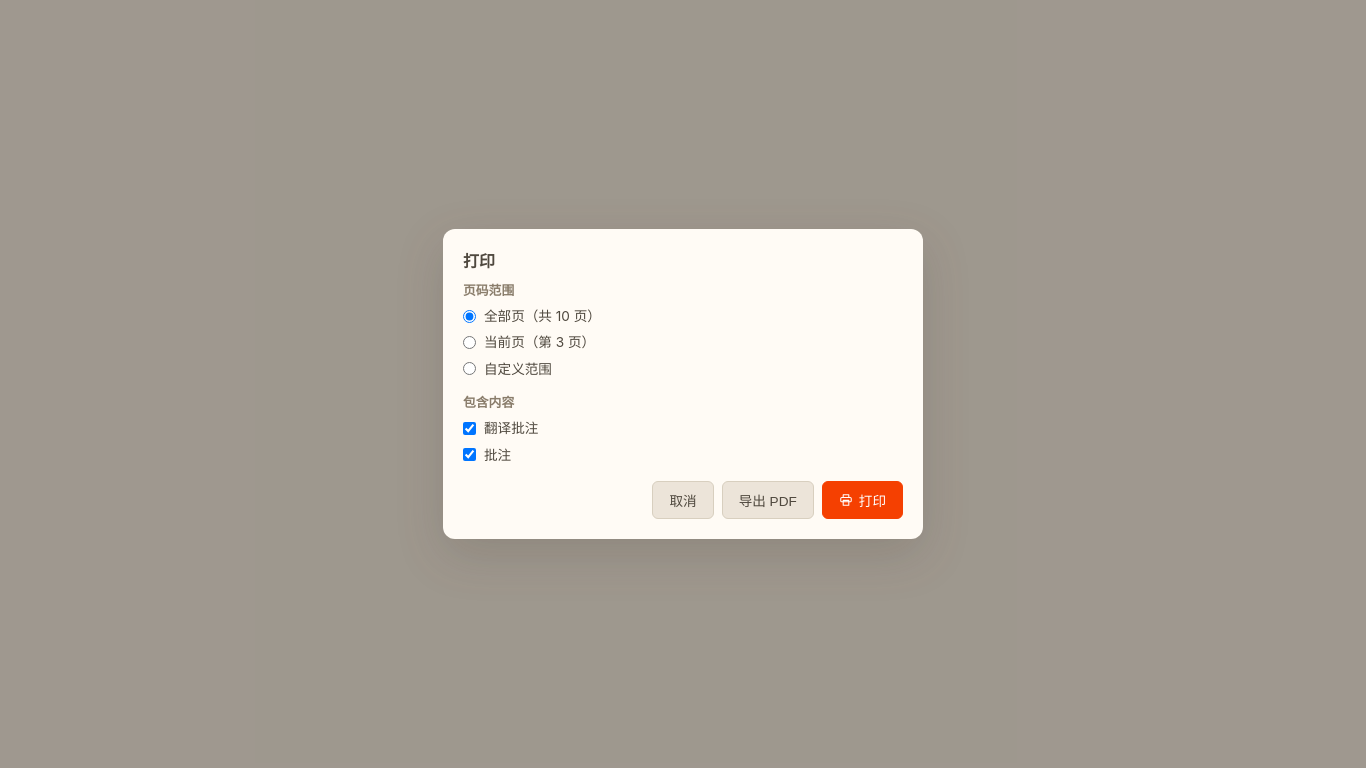
Test: PrintModal › parses a custom range and disables actions while invalid
Click the text "自定义范围".
click(508, 369)  # box [463, 361, 552, 377]
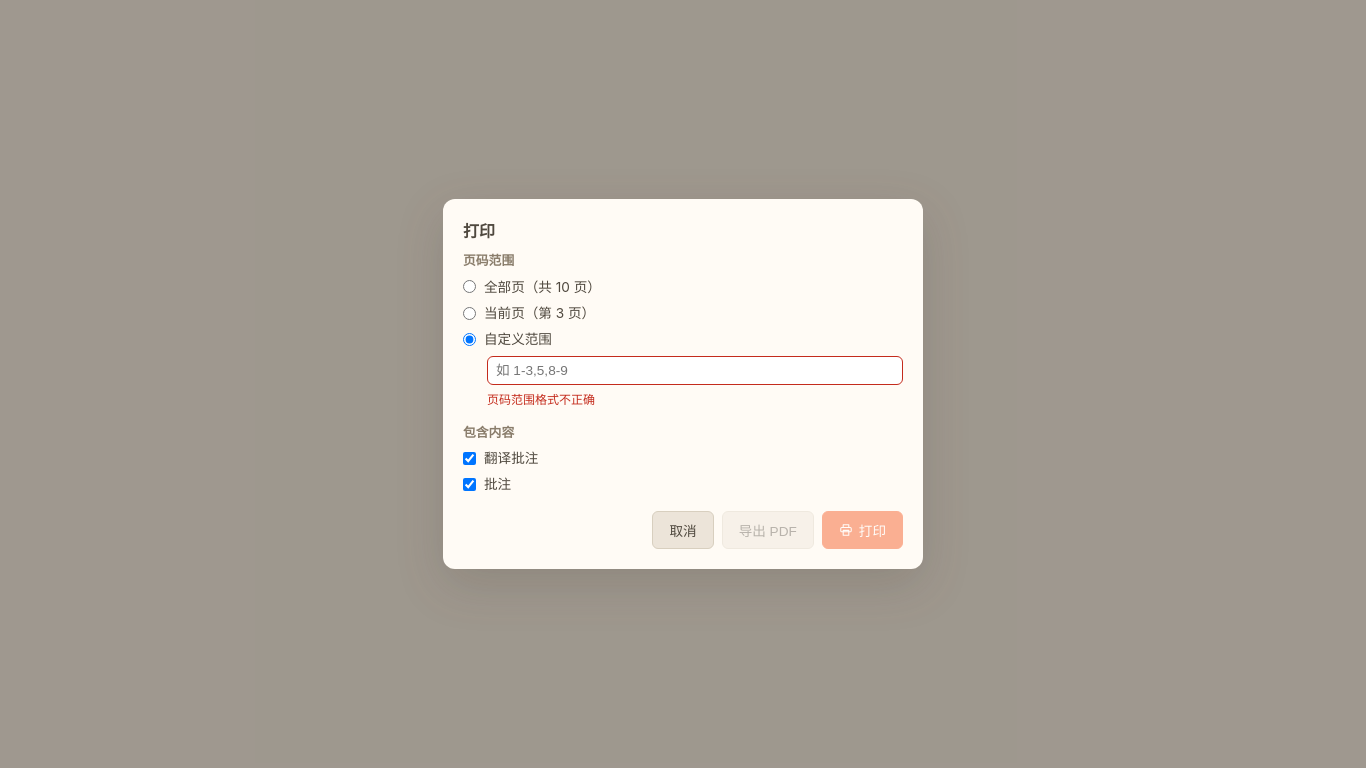
Type "abc" into the field with placeholder "如 1-3,5,8-9".
click(695, 370); type("abc")  # box [487, 356, 903, 385]
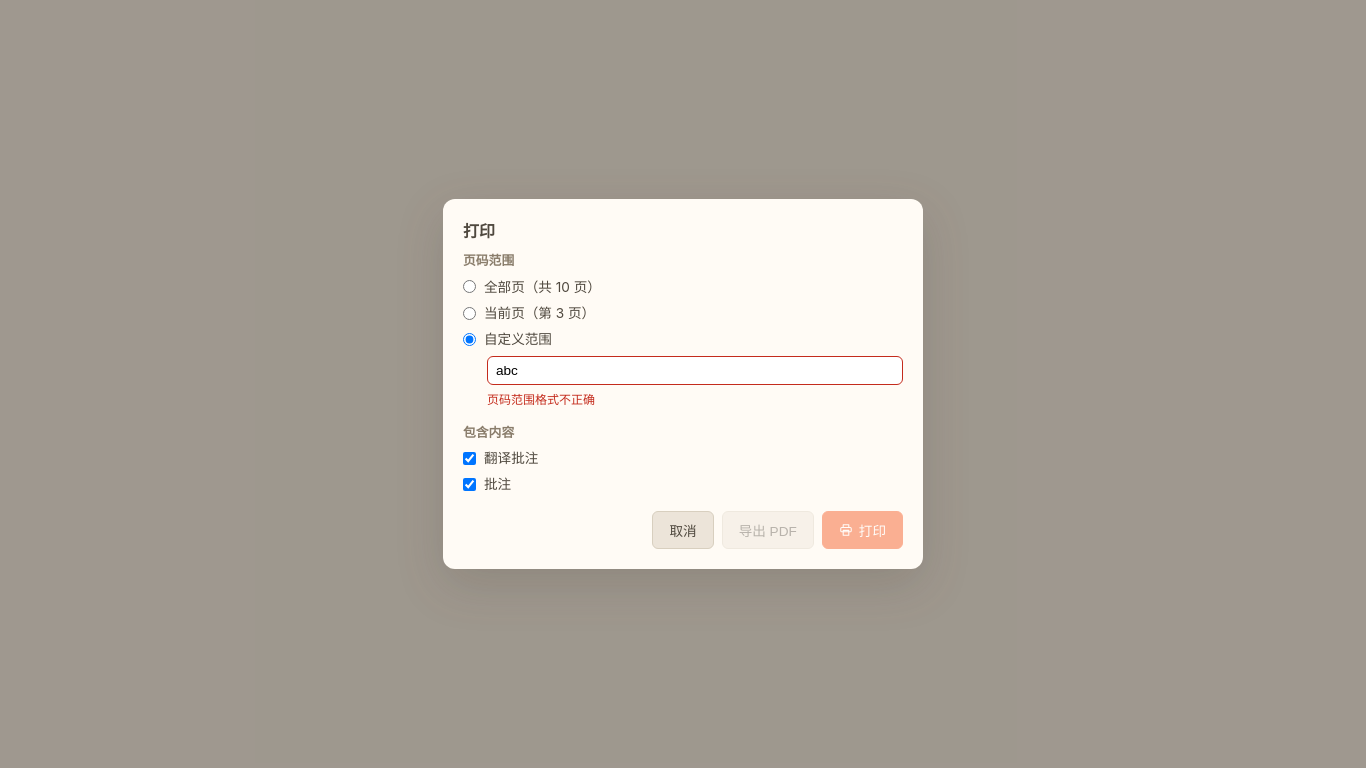
Expected: the text "页码范围格式不正确" is shown, [487, 392, 595, 407]
Expected: the button "打印" is disabled, [822, 511, 903, 549]
Replace the text in the field with placeholder "如 1-3,5,8-9" with "1-2,4" at (695, 370), box [487, 356, 903, 385]
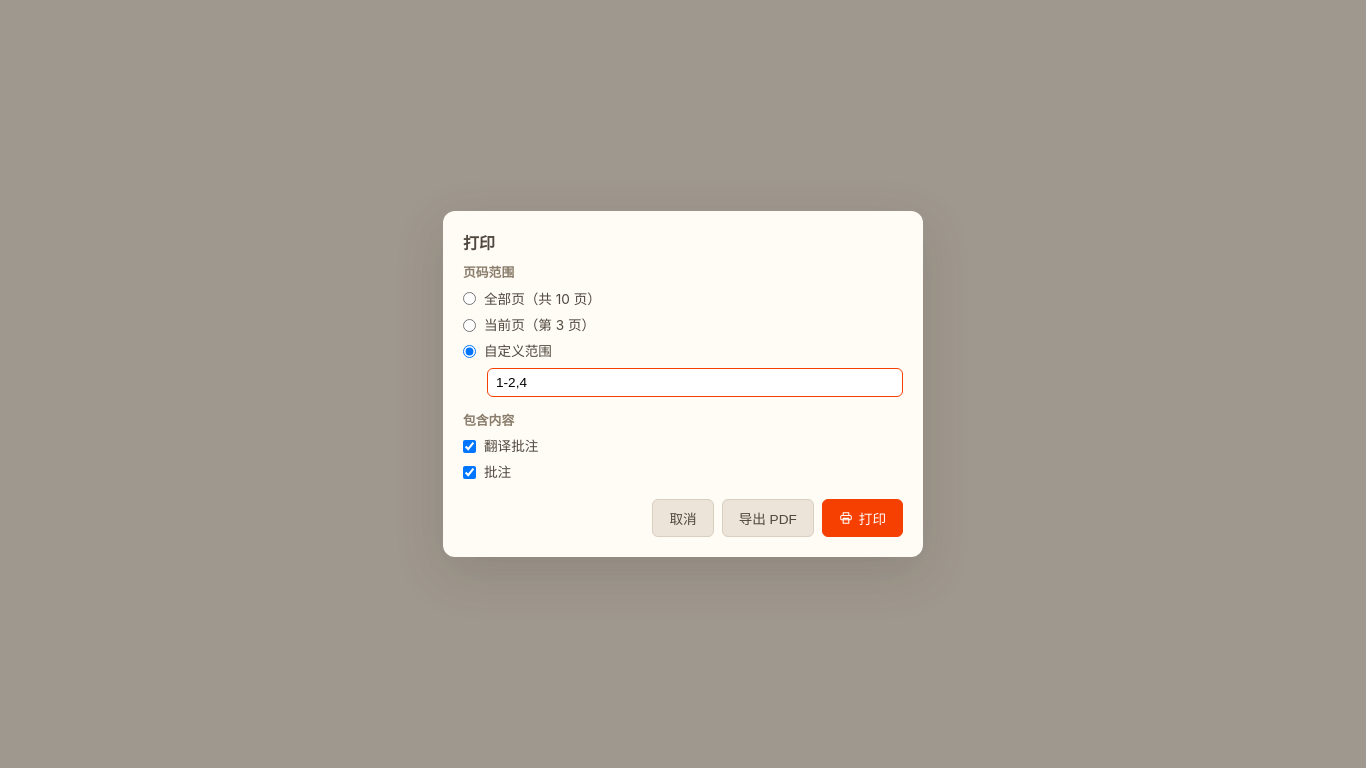
Expected: the button "打印" is enabled, [822, 499, 903, 537]
